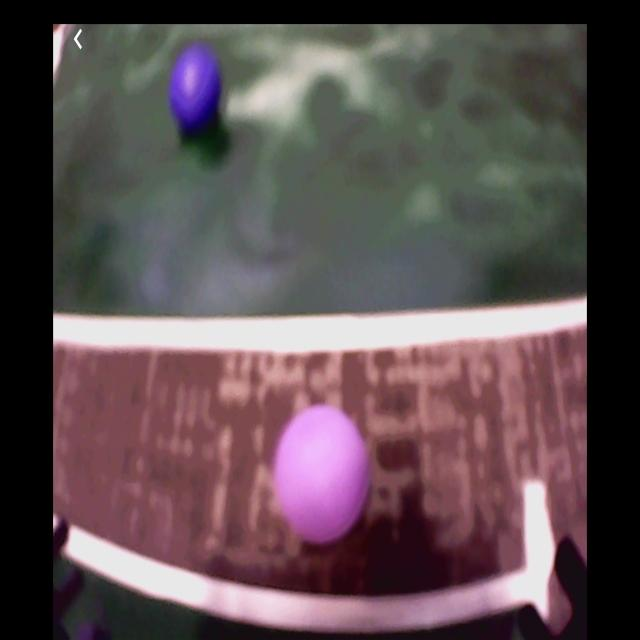ball: (274, 404, 371, 549), (169, 45, 222, 133)
